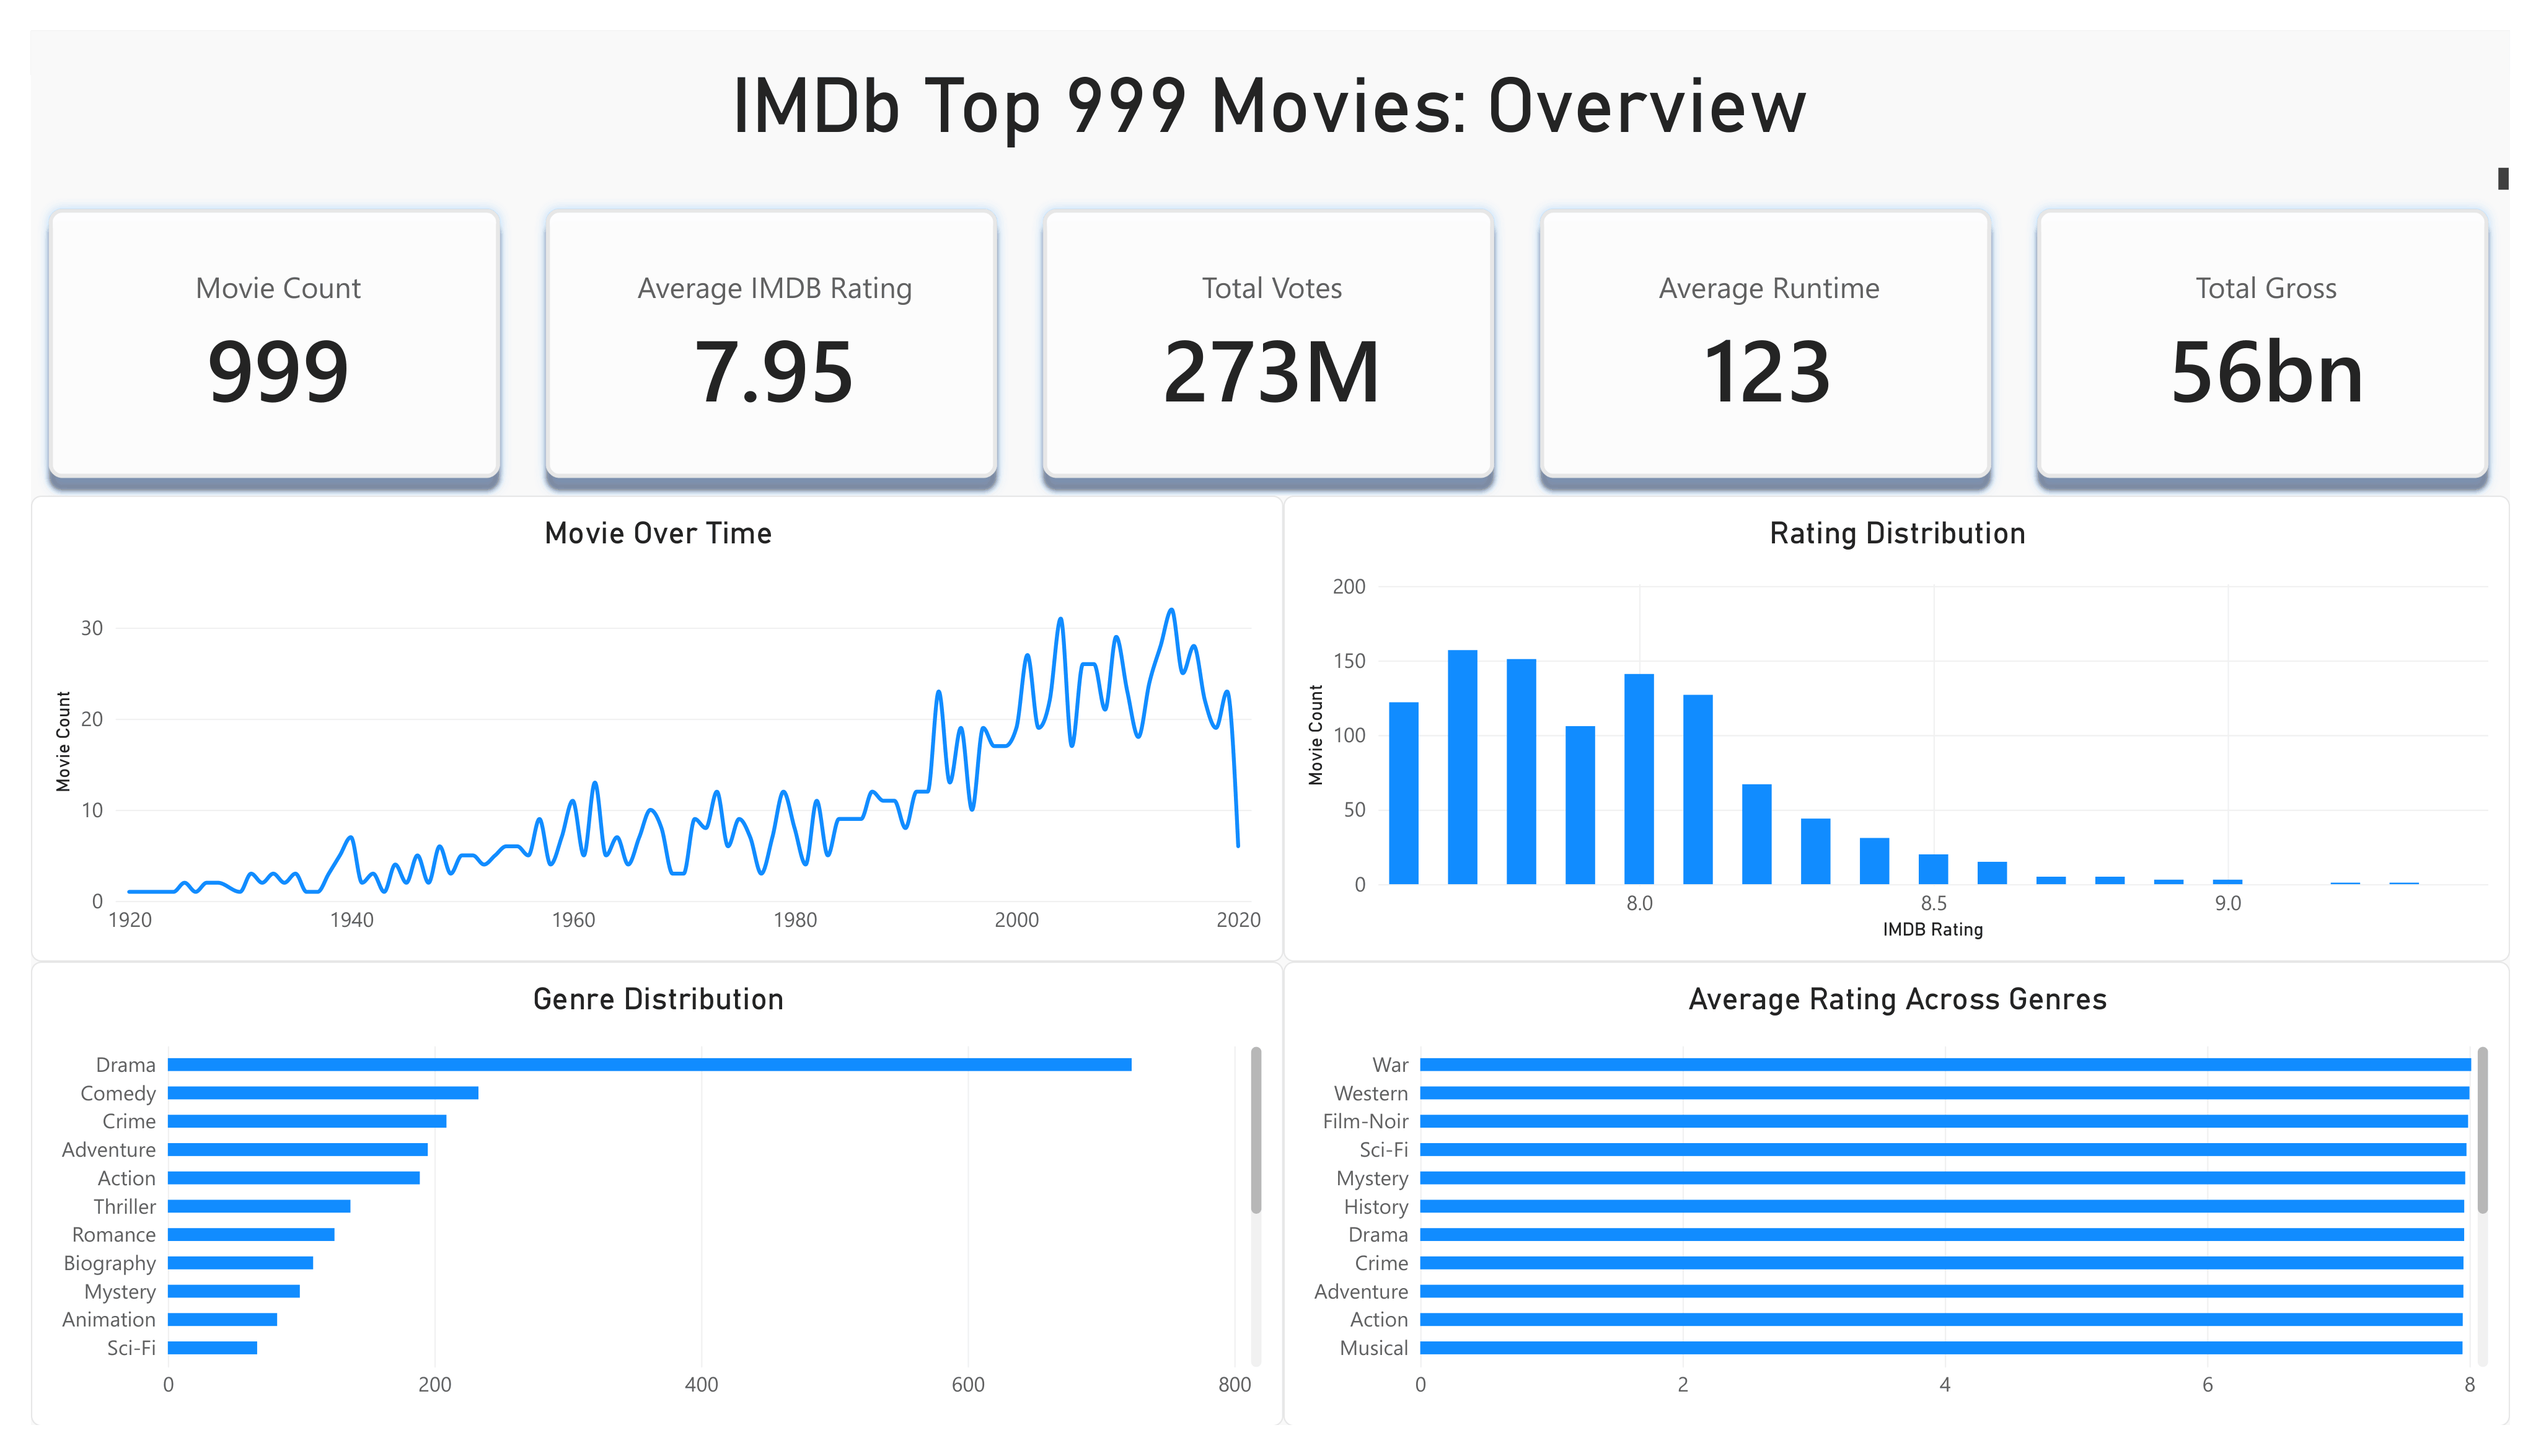

What the dashboard file says about the page in this screenshot:
{"tool":"powerbi","page":{"name":"Dashboard","canvas":[1920,1080],"ordinal":3},"visuals":[{"type":"cardVisual","fields":{"Data":["CountNonNull(imdb_top_1000.MovieID)","Avg(imdb_top_1000.IMDB_Rating)","Sum(imdb_top_1000.No_of_Votes)","Avg(imdb_top_1000.Runtime)","Sum(imdb_top_1000.Gross)"]},"box":[0,124.5,1920,236.9],"z":0},{"type":"lineChart","title":"Movie Over Time","fields":{"Category":["imdb_top_1000.Released_Year"],"Y":["CountNonNull(imdb_top_1000.MovieID)"]},"box":[0,360.3,970.1,360.3],"z":1000},{"type":"clusteredColumnChart","title":"Rating Distribution","fields":{"Category":["imdb_top_1000.IMDB_Rating"],"Y":["CountNonNull(imdb_top_1000.MovieID)"]},"box":[970.1,360.3,949.9,360.3],"z":1001},{"type":"clusteredBarChart","title":"Genre Distribution","fields":{"Category":["Genre.Genre"],"Y":["CountNonNull(imdb_top_1000.MovieID)"]},"box":[0,720.6,970.1,360.3],"z":1002},{"type":"clusteredBarChart","title":"Average Rating Across Genres","fields":{"Category":["Genre.Genre"],"Y":["Avg(imdb_top_1000.IMDB_Rating)"]},"box":[970.1,720.6,949.9,360.3],"z":1003},{"type":"textbox","title":"IMDb Top 999 Movies: Overview","box":[0,22.1,1919.1,102.4],"z":1004}]}

Visuals, with their boxes on the page's 1920x1080 design canvas (x1, y1, x2, y2). These are canvas units, not pixel positions in the 2541x1456 screenshot, which may show the page scaled, cropped or inside an application window:
cardVisual - CountNonNull(imdb_top_1000.MovieID) x Avg(imdb_top_1000.IMDB_Rating): <region>0, 124, 1920, 361</region>
"Movie Over Time" lineChart: <region>0, 360, 970, 721</region>
"Rating Distribution" clusteredColumnChart: <region>970, 360, 1920, 721</region>
"Genre Distribution" clusteredBarChart: <region>0, 721, 970, 1081</region>
"Average Rating Across Genres" clusteredBarChart: <region>970, 721, 1920, 1081</region>
"IMDb Top 999 Movies: Overview" textbox: <region>0, 22, 1919, 124</region>
